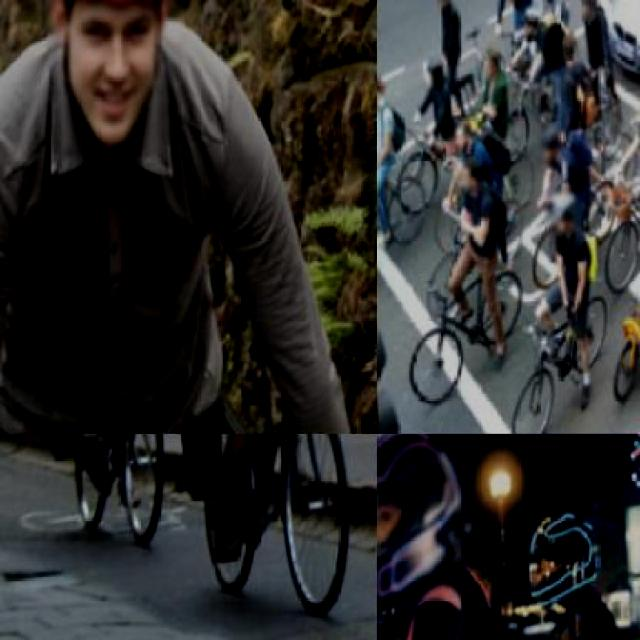With Helmet: (38, 0, 192, 172), (377, 434, 469, 620), (527, 512, 602, 613), (542, 189, 580, 245), (535, 124, 563, 176), (425, 56, 444, 90), (578, 0, 598, 28), (435, 0, 452, 12)
Without Helmet: (452, 157, 486, 200), (480, 49, 502, 89)
